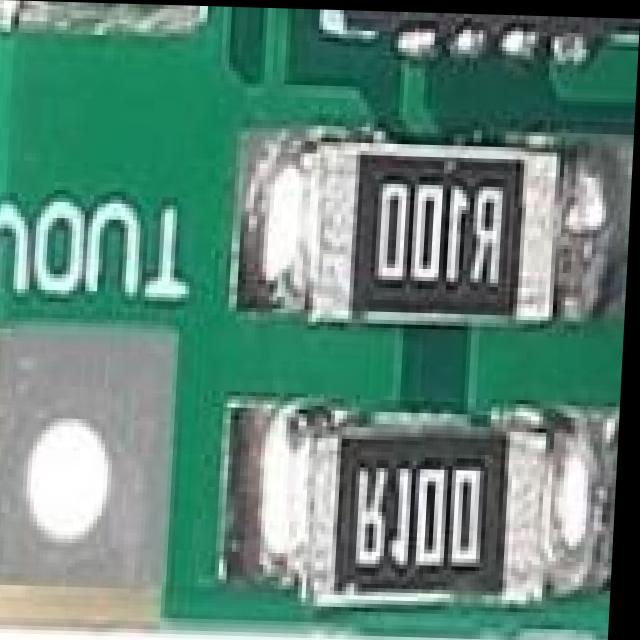IC: (315, 7, 640, 31)
capacitor: (3, 0, 208, 41)
resistor: (300, 402, 572, 594), (307, 145, 562, 321)
